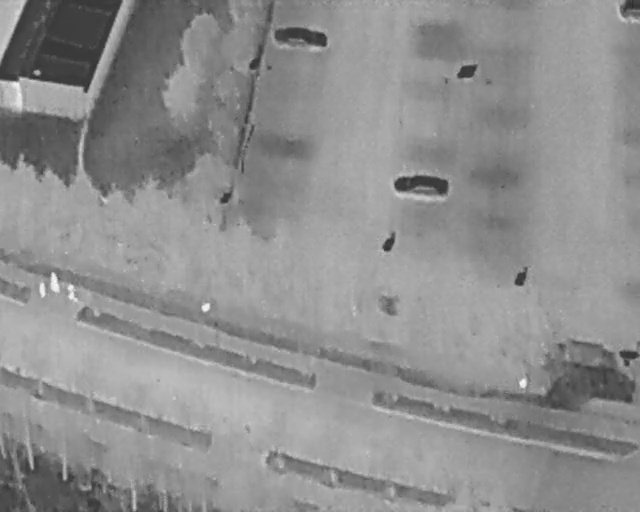Car: (548, 337, 636, 402), (392, 171, 451, 200), (272, 24, 328, 51), (616, 0, 640, 20)
Person: (66, 284, 77, 302), (49, 271, 59, 290), (38, 282, 47, 300)
